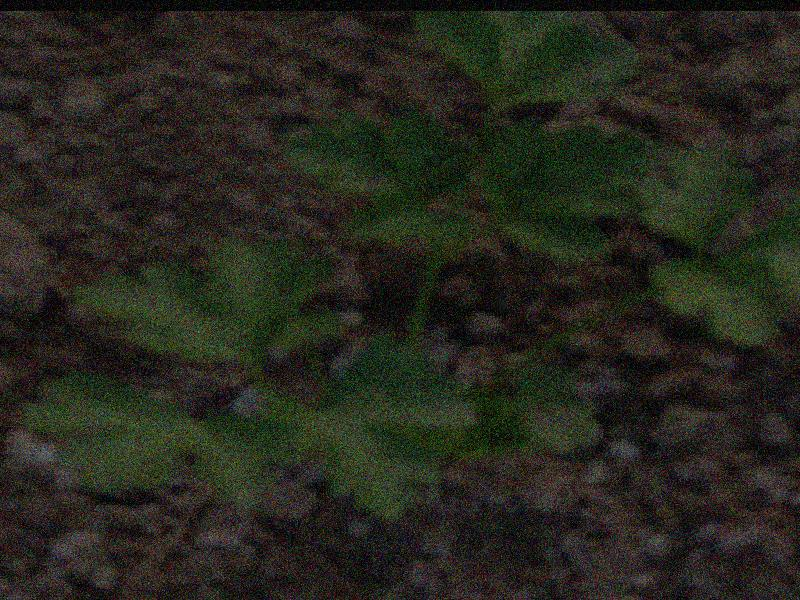radish: (120, 96, 800, 561)
